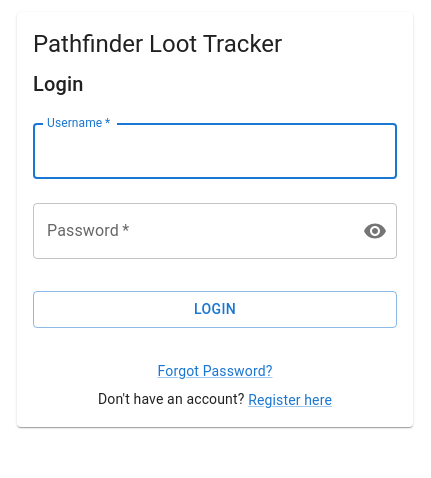
Test case: Login › shows error when submitting with only username
Type "testuser" into the field labelled "Username *" at (215, 151), box x1=33 y1=123 x2=397 y2=179
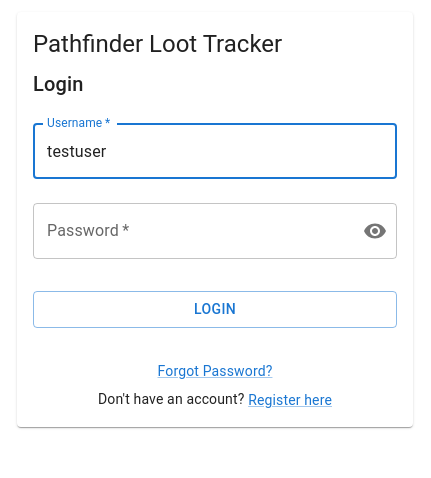
Click the button "Login" at (215, 310), box x1=33 y1=291 x2=397 y2=328
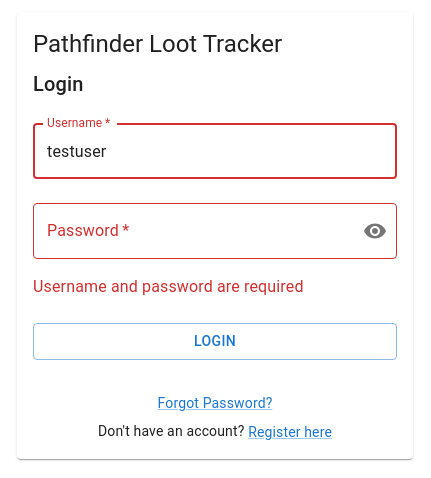
Expected: the message reads "Username and password are required", x1=33 y1=277 x2=304 y2=296
